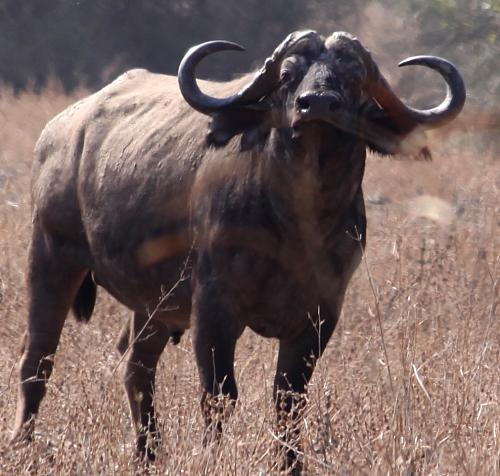Buffalo: (50, 22, 500, 476)
